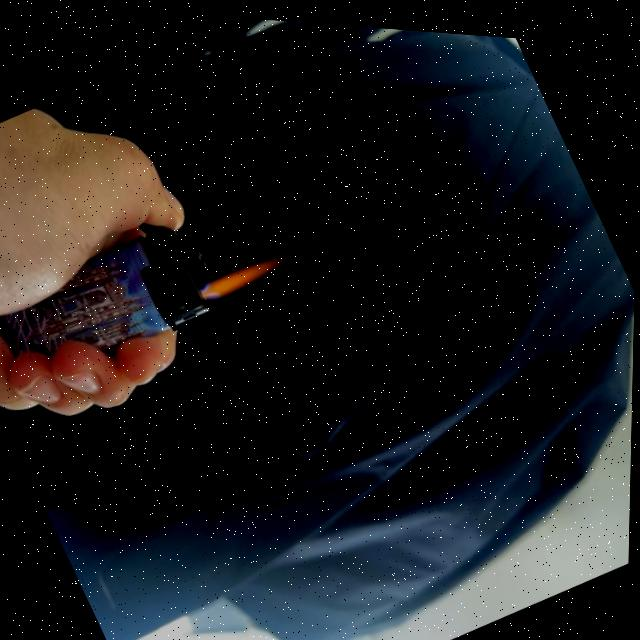Fire: (200, 237, 295, 308)
